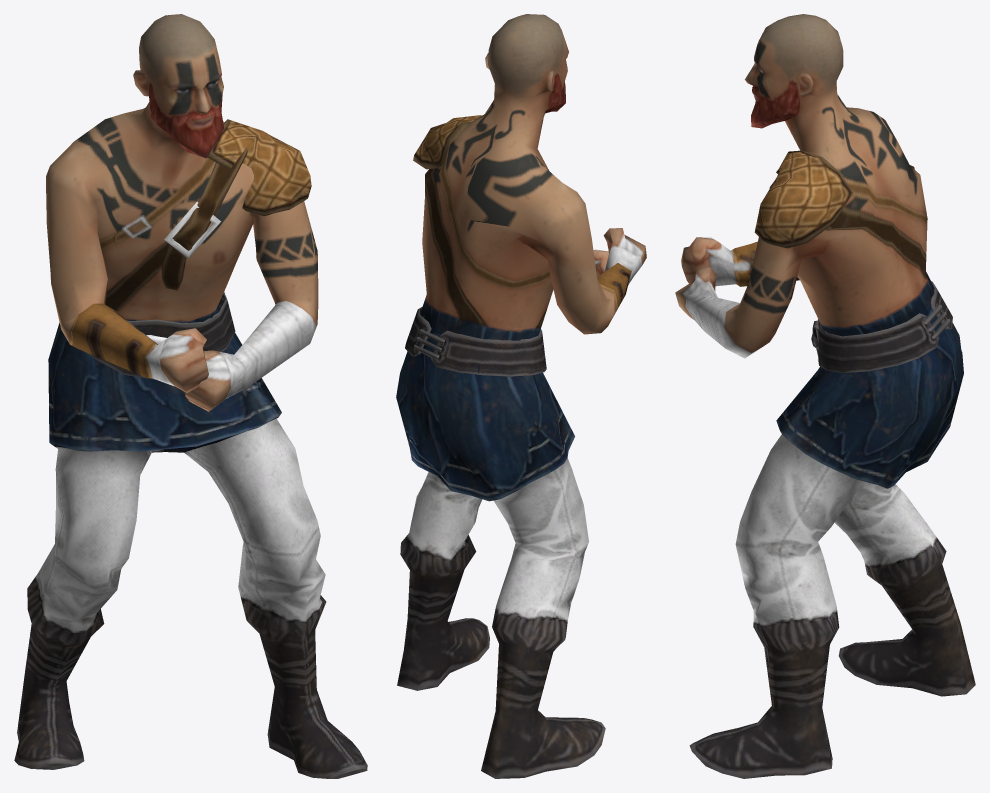
The model's file is body-mediuminfantry.glb.
The picture shows the model from 3 angles, left to right: view 1: azimuth 30°, elevation 25°; view 2: azimuth 150°, elevation 25°; view 3: azimuth 270°, elevation 25°; orthographic projection. The views are drawn at different scales.
Bounding box in the file's own units: 0.7065 × 1.94 × 0.7575.
1 material, 1 textured.
